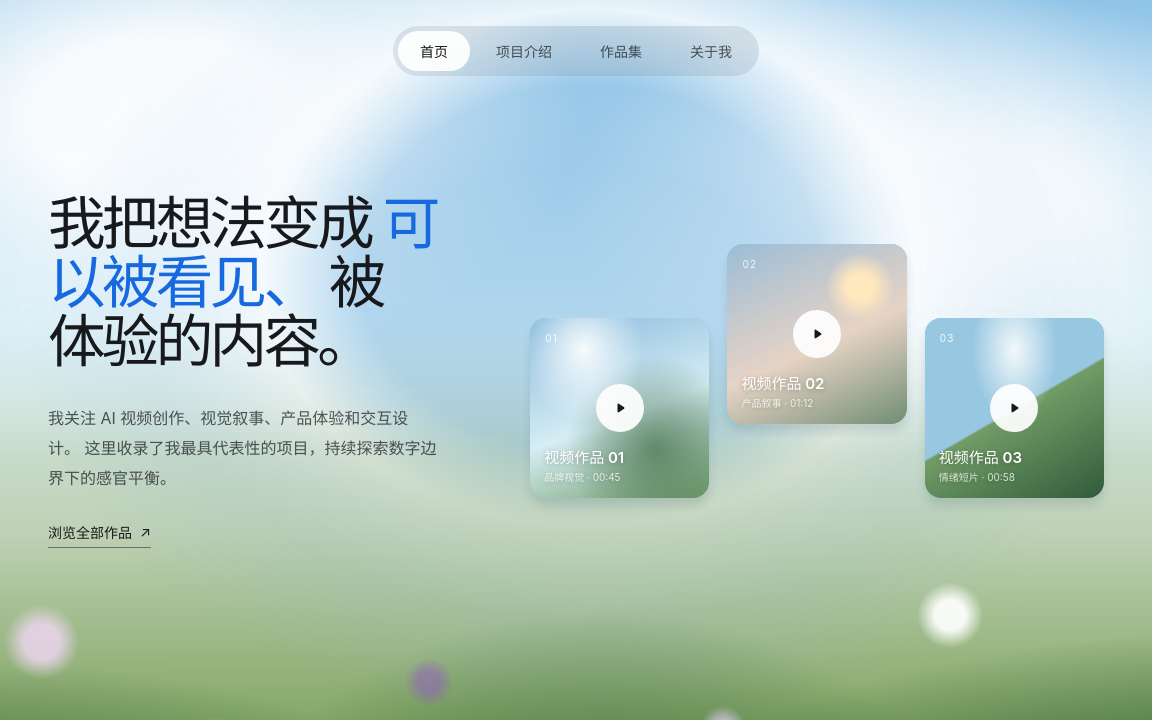
Test: reference-style video portfolio › shows pending feedback for placeholder videos
(page scrolled)
Click the button with aria-label "播放 视频作品 01".
click(620, 408)  # box [530,318,710,498]
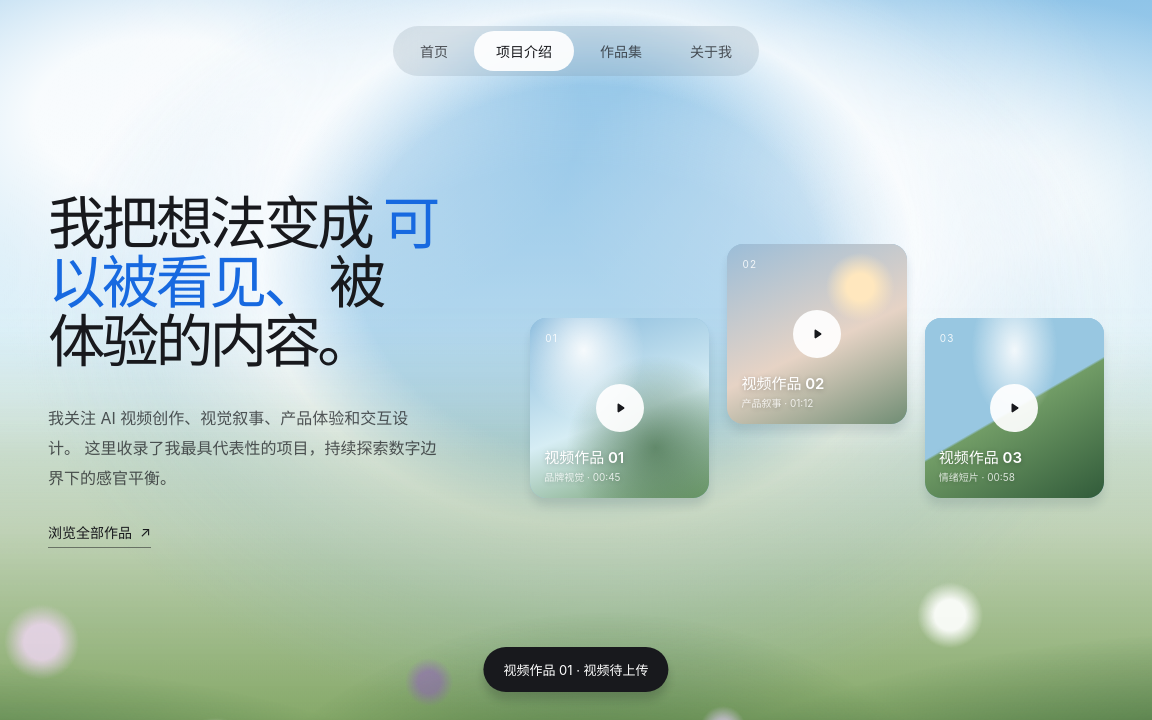
Expected: the message shows "视频待上传", [503,662,649,678]
